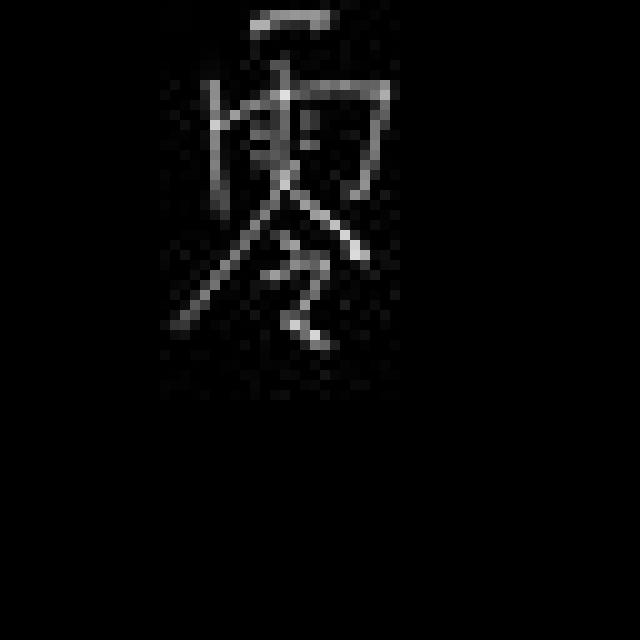0 -zero-: (171, 4, 402, 378)
